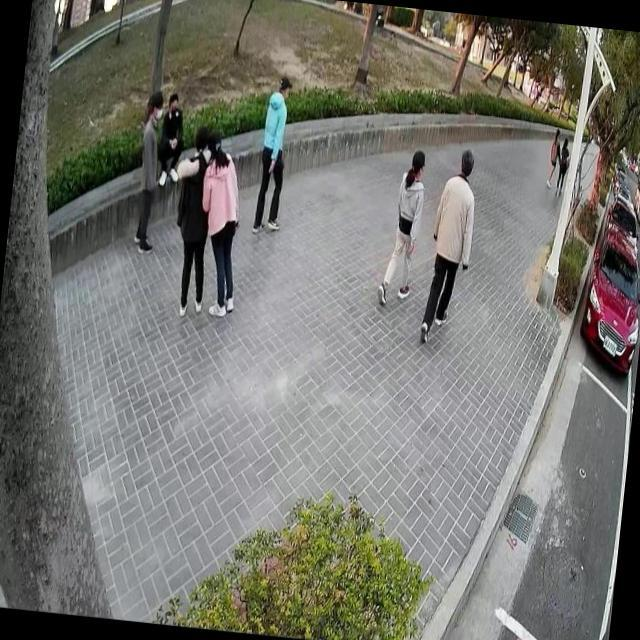person: (414, 140, 484, 352), (186, 121, 253, 322), (156, 119, 222, 323), (369, 137, 432, 313), (246, 65, 300, 242), (126, 85, 172, 256), (151, 87, 191, 190), (540, 123, 562, 192), (551, 131, 571, 198)
